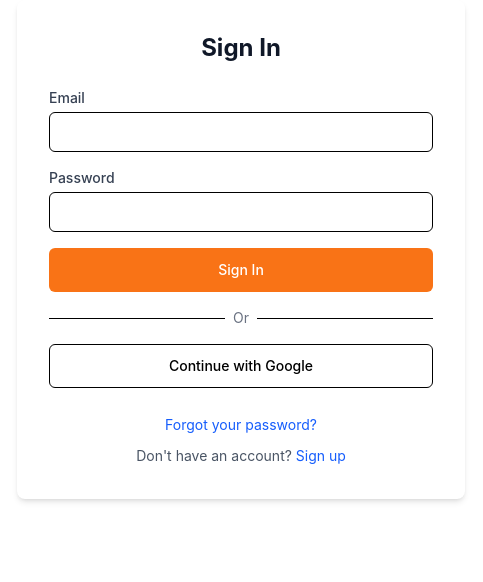
it: AuthForm › Error Handling Tests › should display error message on Google signin failure
Click the button "Continue with Google". click: (241, 366)
box: [49,344,433,388]
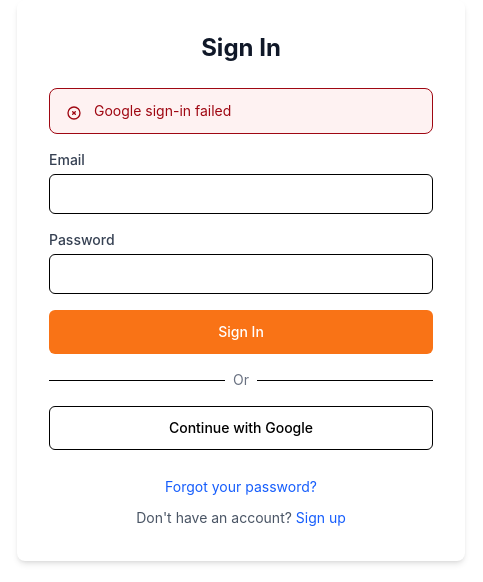
Now the text "Google sign-in failed" is shown, box [94,102,231,119]
